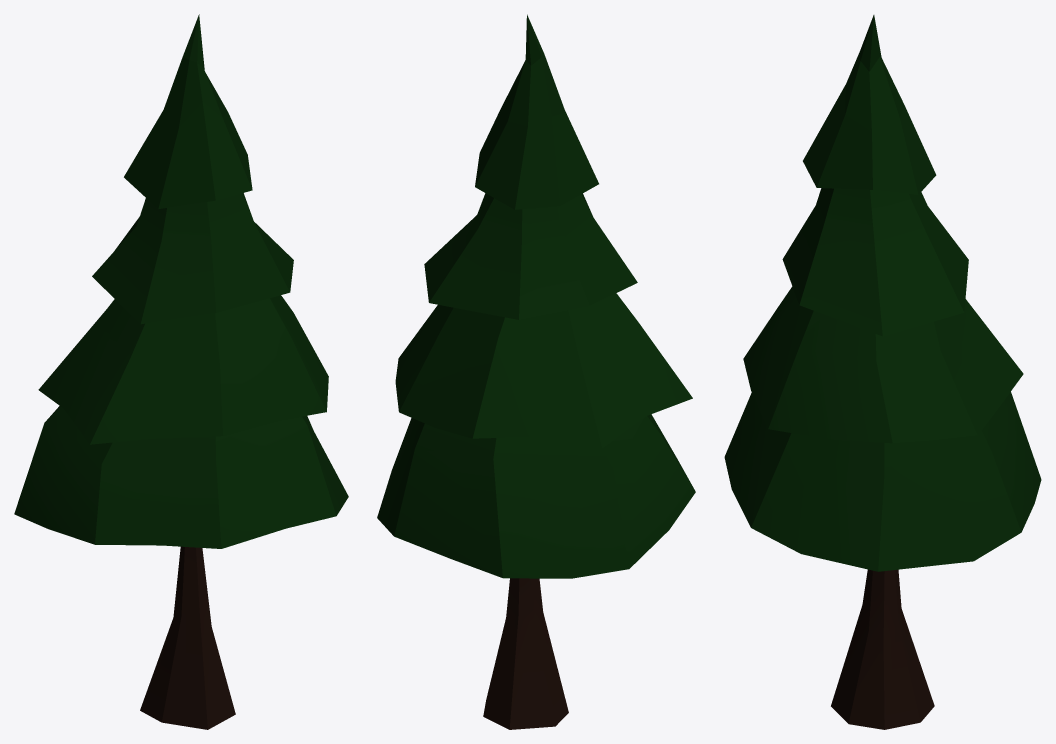
Rendered from pino_4.FBX.
The picture shows the model from 3 angles, left to right: view 1: azimuth 30°, elevation 25°; view 2: azimuth 150°, elevation 25°; view 3: azimuth 270°, elevation 25°; orthographic projection.
Visible parts, largest first — view 1: pCylinder4; view 2: pCylinder4; view 3: pCylinder4.
Part boxes in pixels (bbox=[...]): pCylinder4: bbox=[14, 14, 348, 729]; pCylinder4: bbox=[377, 14, 695, 729]; pCylinder4: bbox=[724, 15, 1041, 729].
Size of the model in its own units: 1.96 by 4.74 by 1.91.
